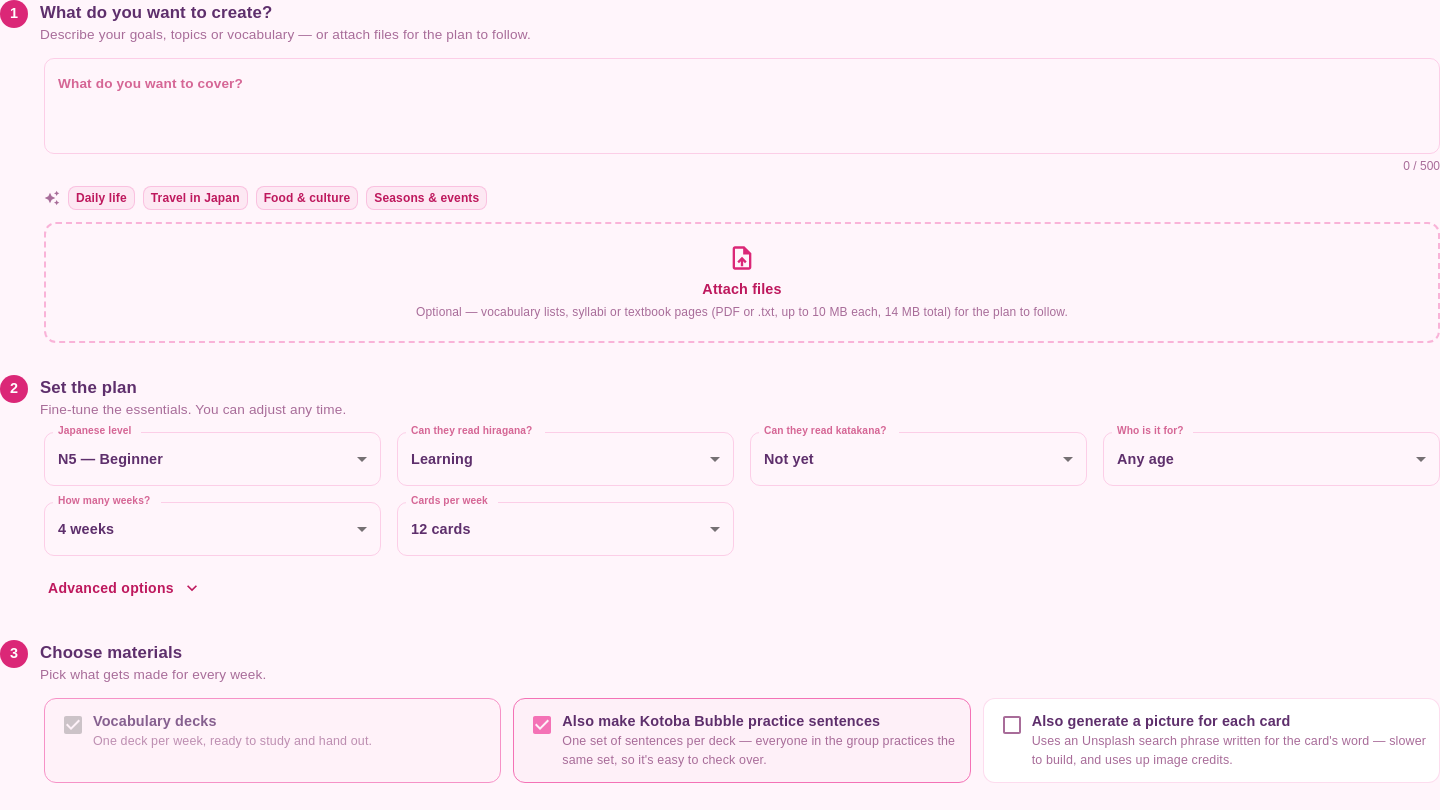
Scenario: LessonSetBuilder review step › lists the plan decks and cards after a plan comes back
Replace the text in the text box labelled "What do you want to cover?" with "Food words". click: (742,106)
box: x1=58 y1=74 x2=1426 y2=137
(page scrolled)
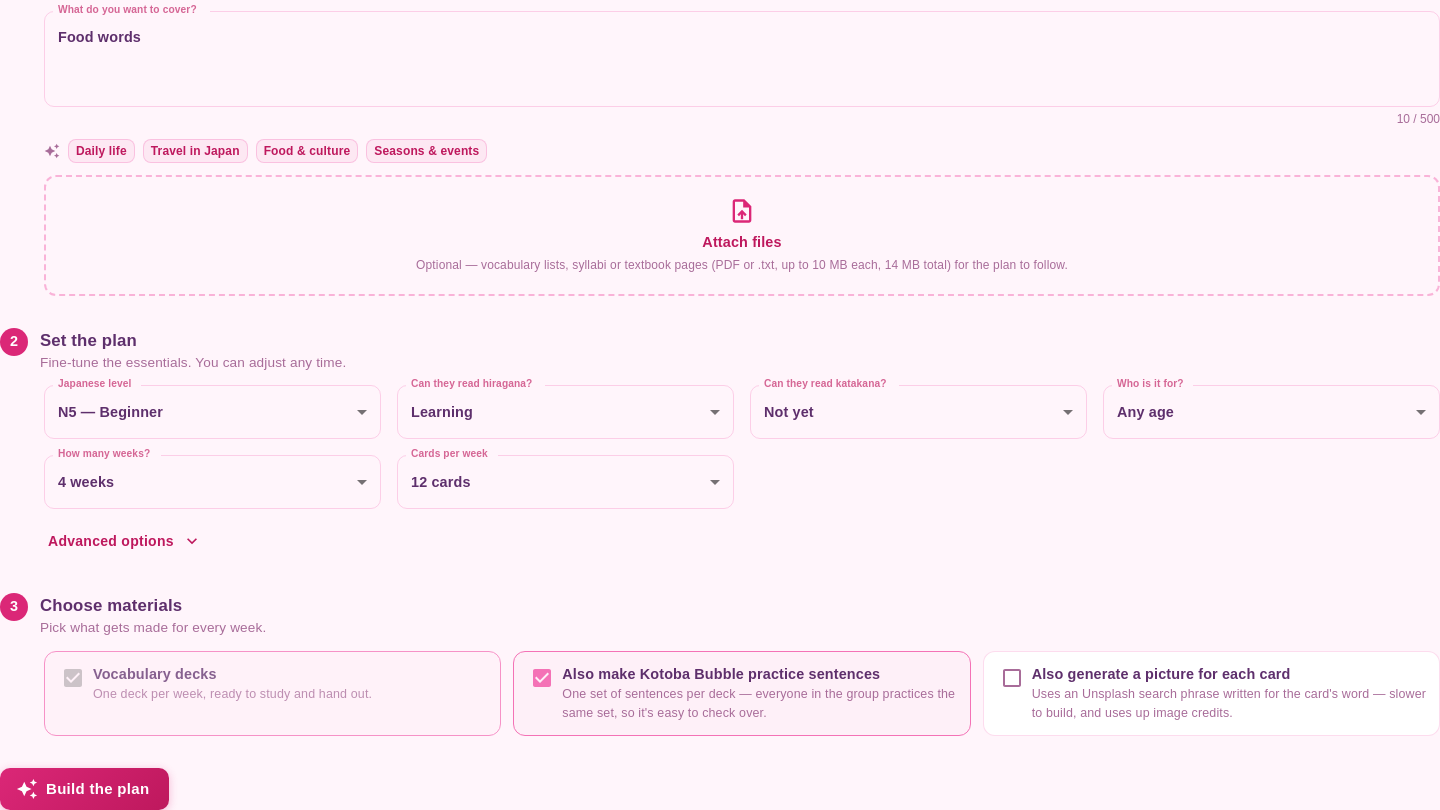
Click the button "Build the plan". click: (85,789)
box: x1=0 y1=768 x2=169 y2=809
(page scrolled)
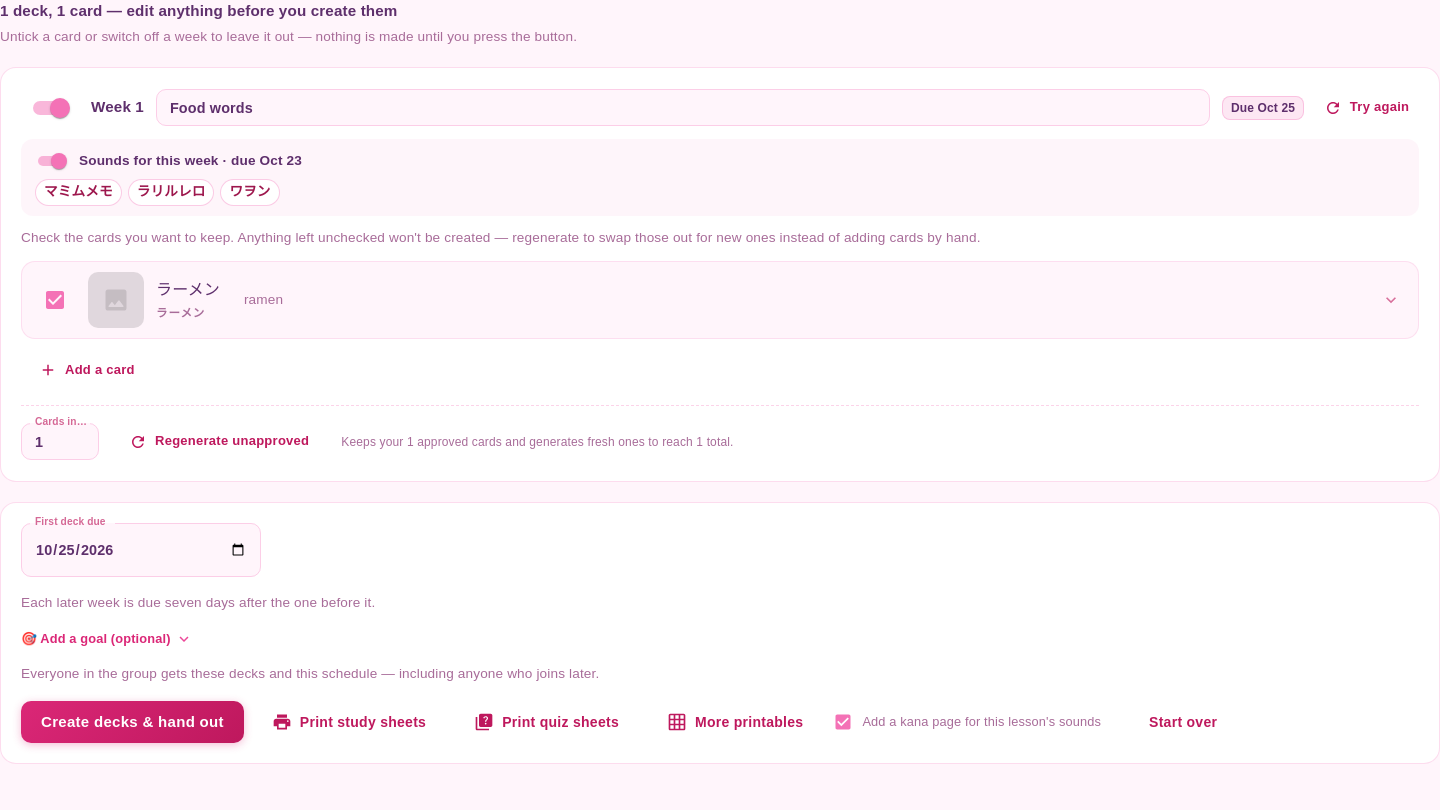
Check: the field showing "Food words" is shown, box x1=156 y1=89 x2=1210 y2=126
Click the button named "Show details". click: (1391,300)
box: x1=1376 y1=284 x2=1406 y2=314
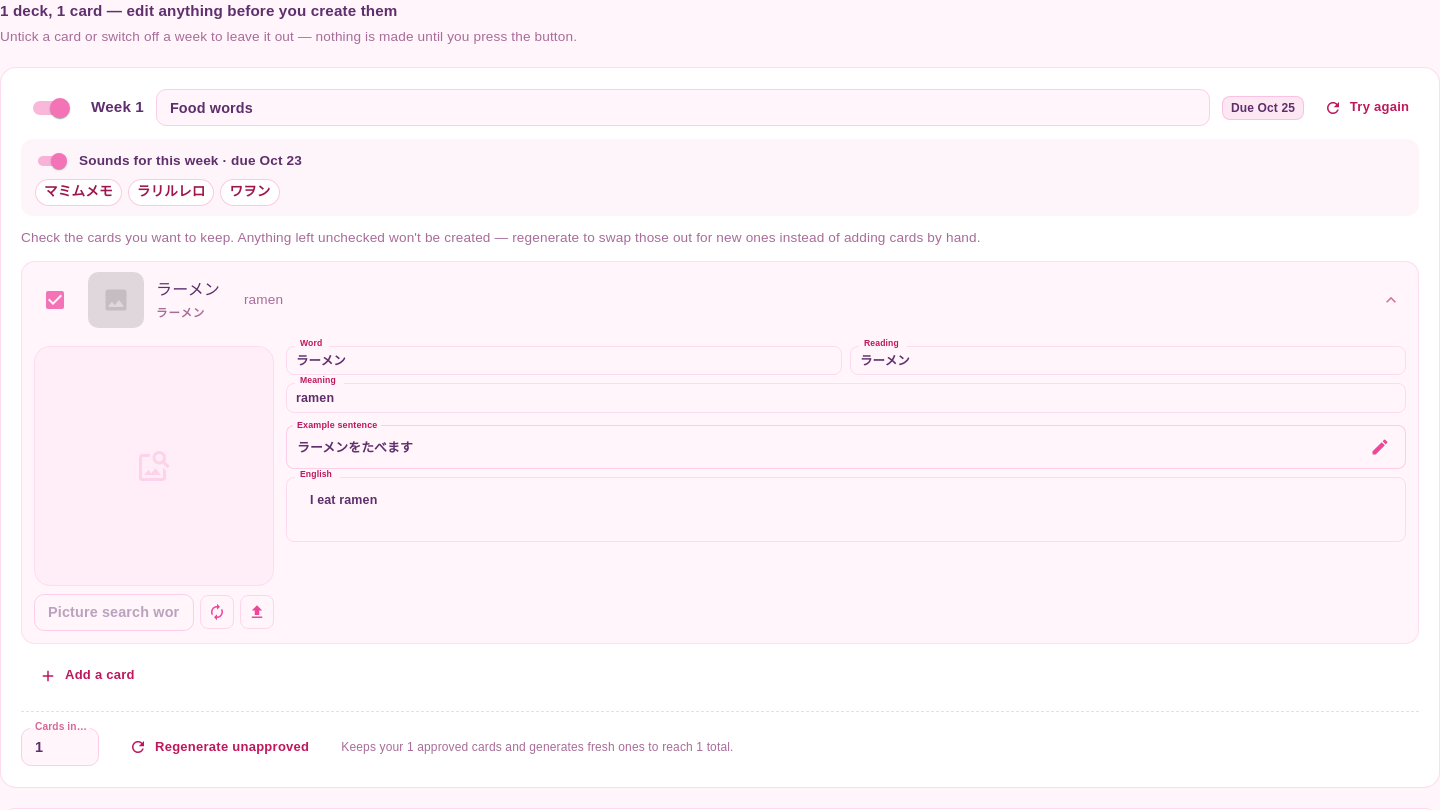
Check: the field labelled "Word" holds "ラーメン", box x1=286 y1=346 x2=842 y2=375
Check: the text "ラーメンをたべます" is shown, box x1=297 y1=440 x2=413 y2=455
